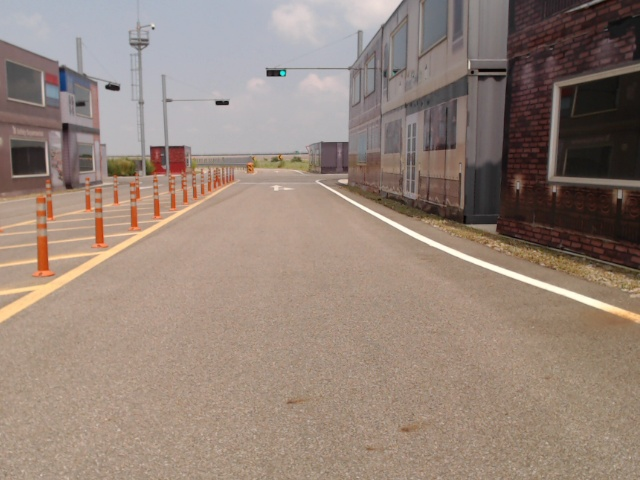green_3: (266, 69, 287, 77)
